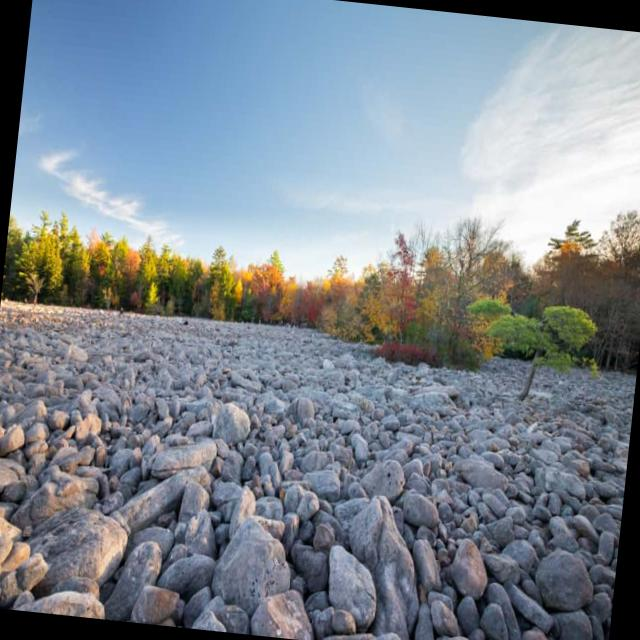rocks: (0, 302, 636, 640)
